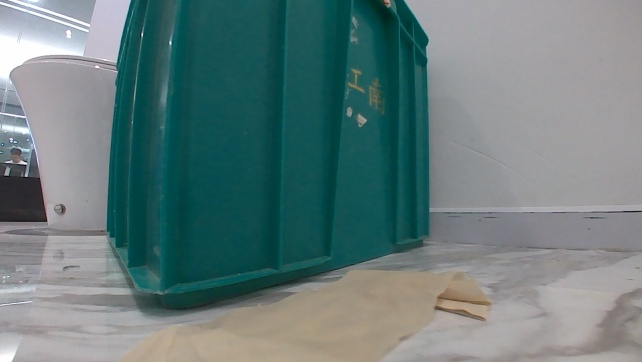socks: (118, 262, 494, 361)
toilet: (8, 51, 117, 233)
